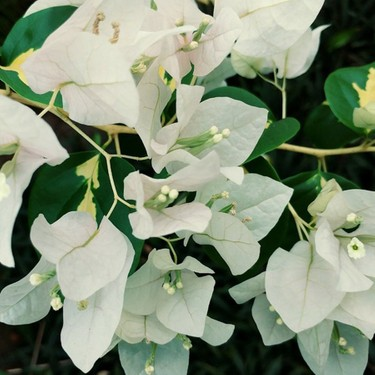rose: (8, 197, 231, 375), (131, 158, 296, 278), (285, 178, 375, 330)
